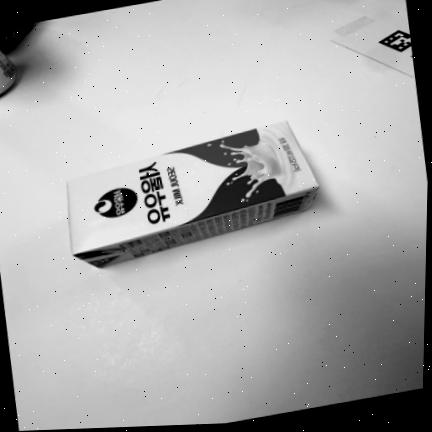milk_green: (65, 119, 318, 269)
